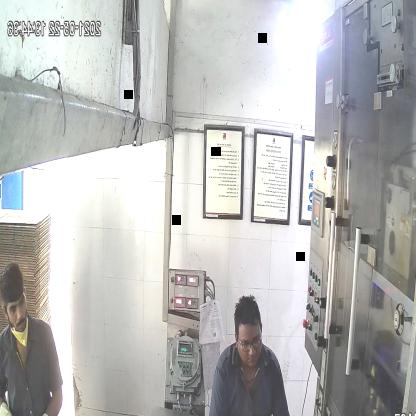goggles: (236, 324, 264, 355)
no_goggles: (3, 294, 29, 320)
